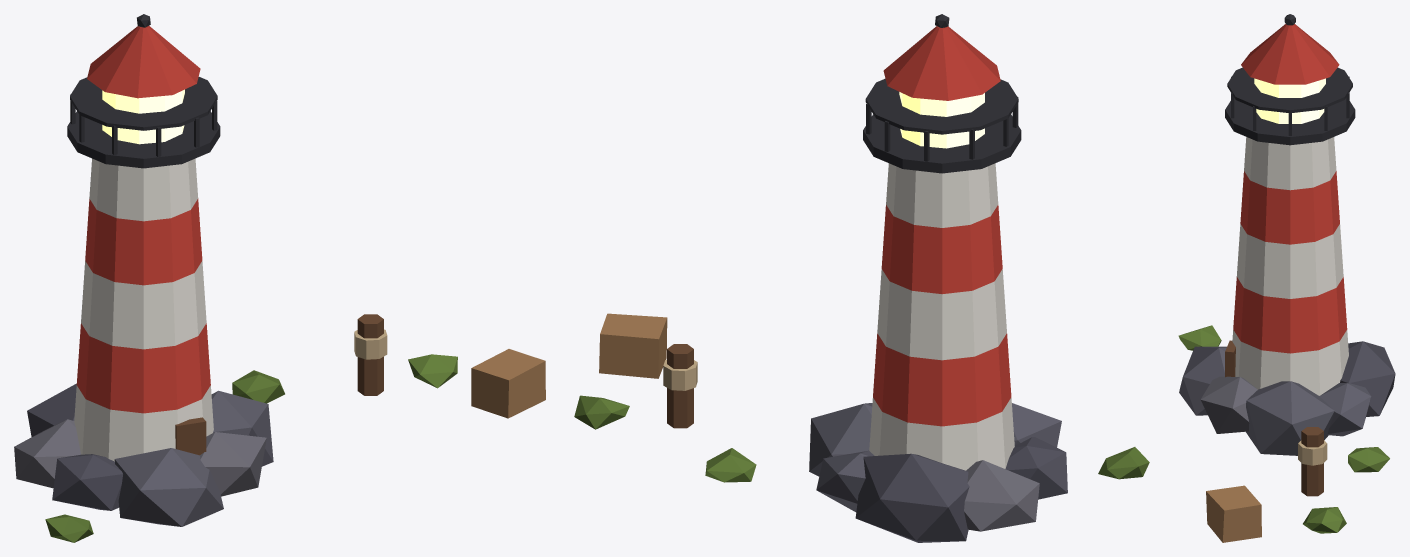
File: theme_lighthouse.glb
3 renders of one model, left to right at view 1: azimuth 30°, elevation 25°; view 2: azimuth 150°, elevation 25°; view 3: azimuth 270°, elevation 25°, orthographic. The views are drawn at different scales.
Parts seen in each view (by area): view 1: theme_lighthouse; view 2: theme_lighthouse; view 3: theme_lighthouse.
Part boxes in pixels (x1,y1,x2,y2): theme_lighthouse: (14, 14, 545, 542); theme_lighthouse: (574, 14, 1149, 542); theme_lighthouse: (1178, 14, 1395, 542).
Size of the model in its own units: 2.22 by 2.03 by 0.9672.
